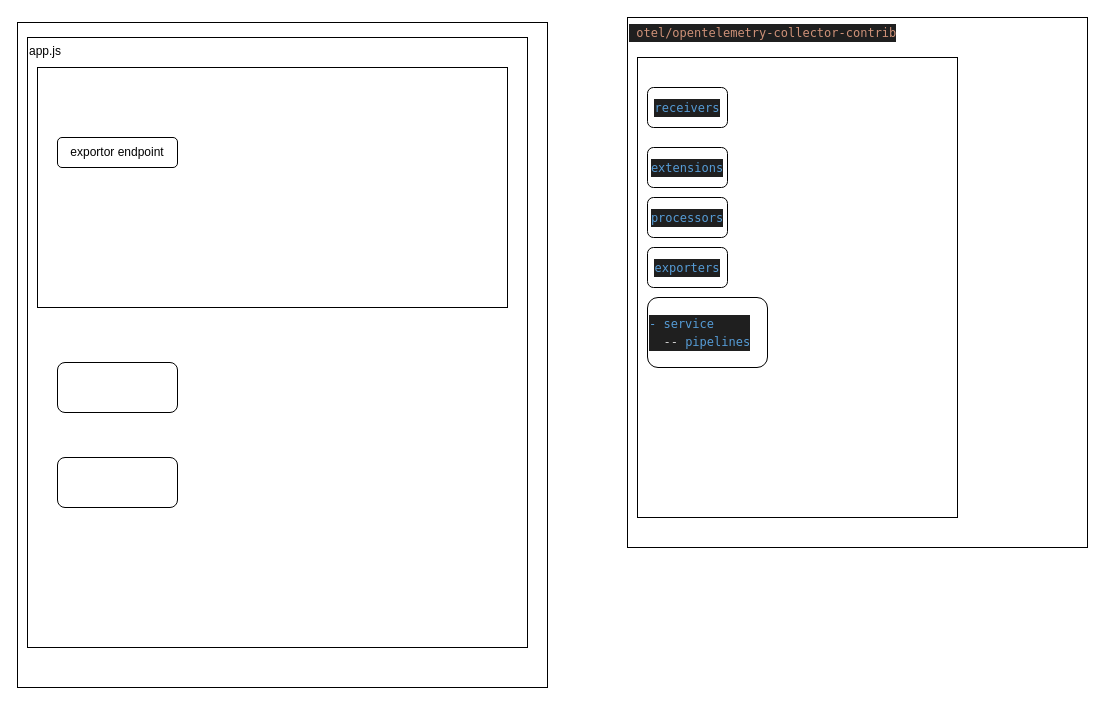
Image size: 1105x705. Some labels were removed from this diagram. Each missing label, with the box of its shape:
otel-collector-config.yaml: (636, 56, 958, 518)
tracing.js: (36, 66, 508, 308)
